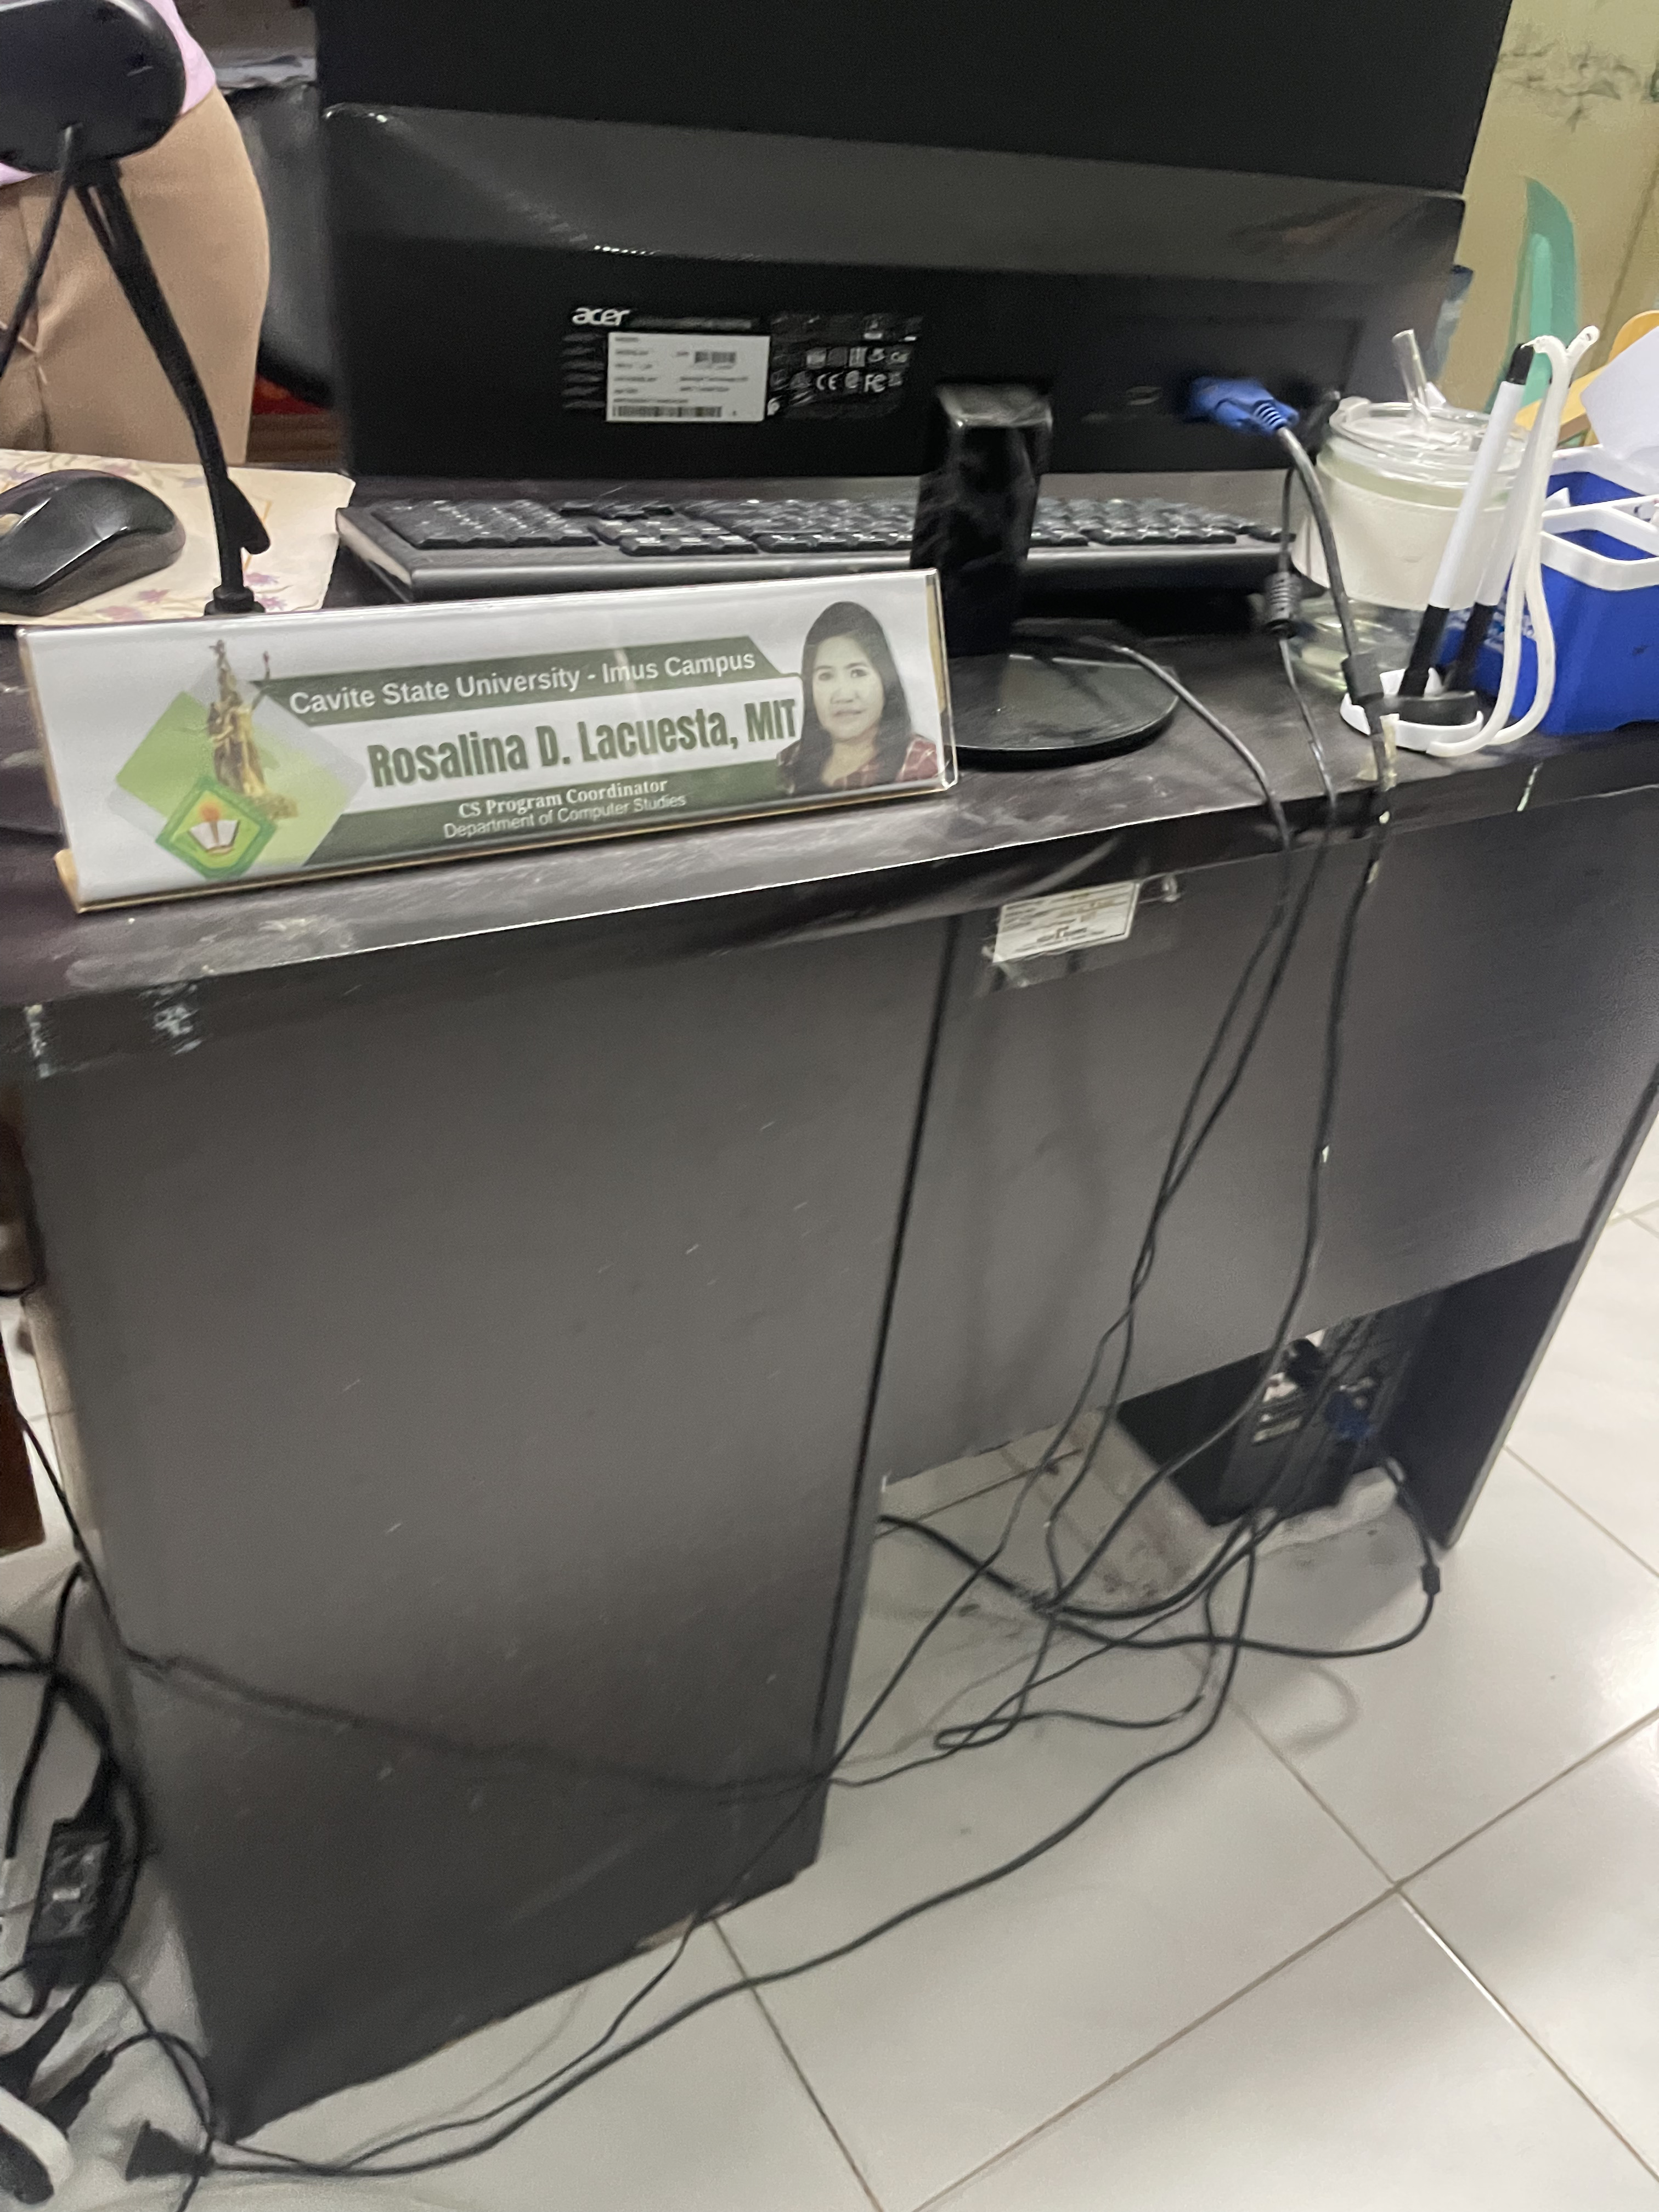table1: (10, 477, 1659, 2144)
